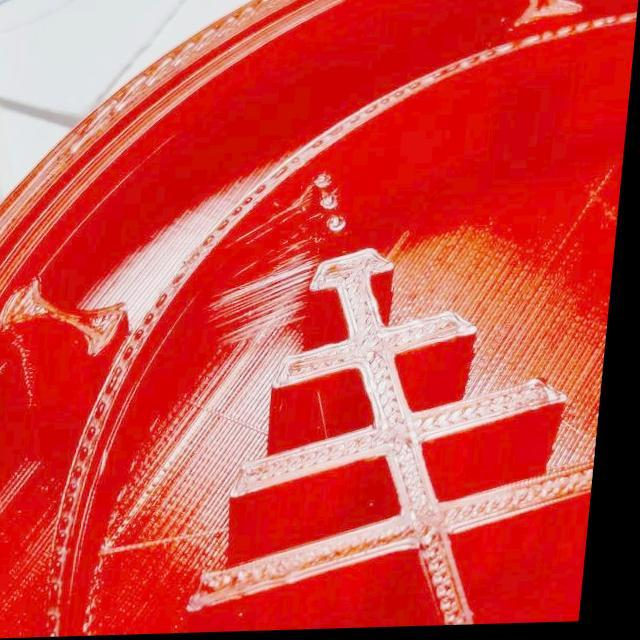stringing: (198, 255, 314, 364)
